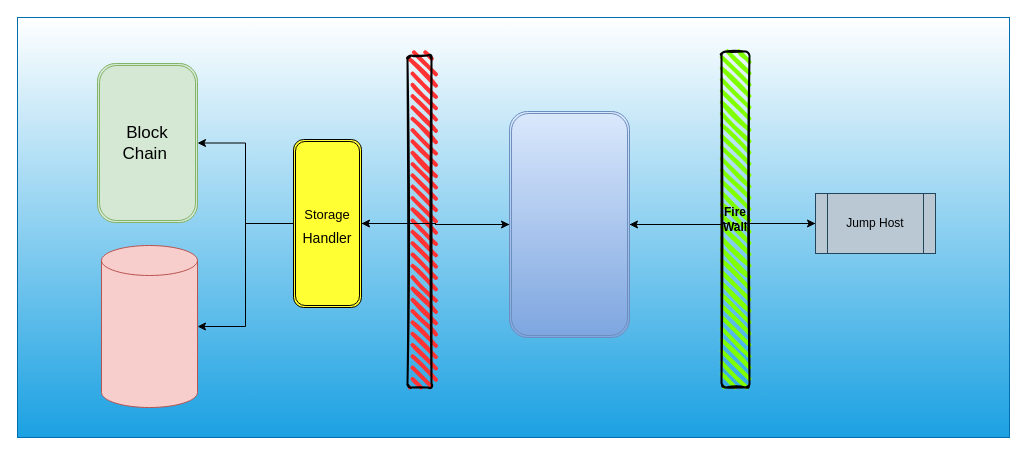
Some shapes in this 1027 by 455 pixel diagram are drawn without their labels. The shapes that lost their labels are listed below. From the top down, each one's centre as x and y in pixels, then its label:
At (569,224): "Application Server".
At (149,326): "Centralized Database (No SQL)".
